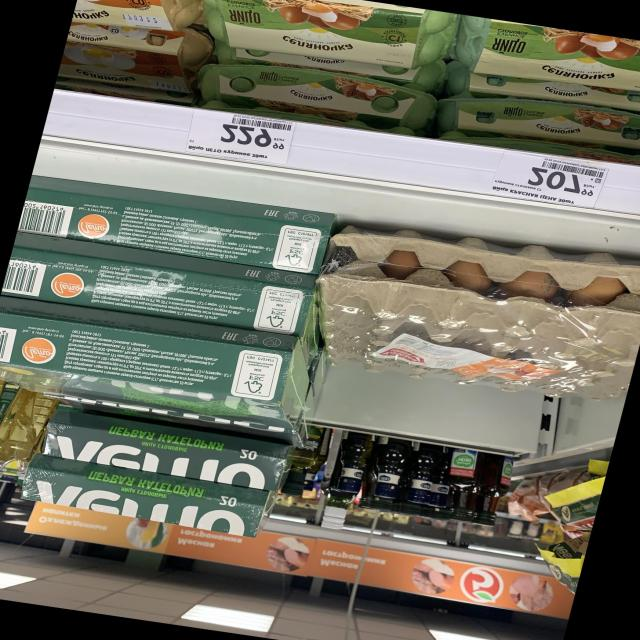organic waste: (190, 53, 446, 137), (182, 0, 459, 76), (446, 15, 640, 101), (433, 83, 640, 161), (57, 18, 215, 98), (446, 66, 640, 122), (308, 426, 381, 536), (357, 430, 418, 523), (72, 0, 208, 40), (274, 417, 337, 502), (434, 438, 493, 527), (0, 383, 44, 487), (398, 440, 455, 520), (470, 449, 522, 530)
